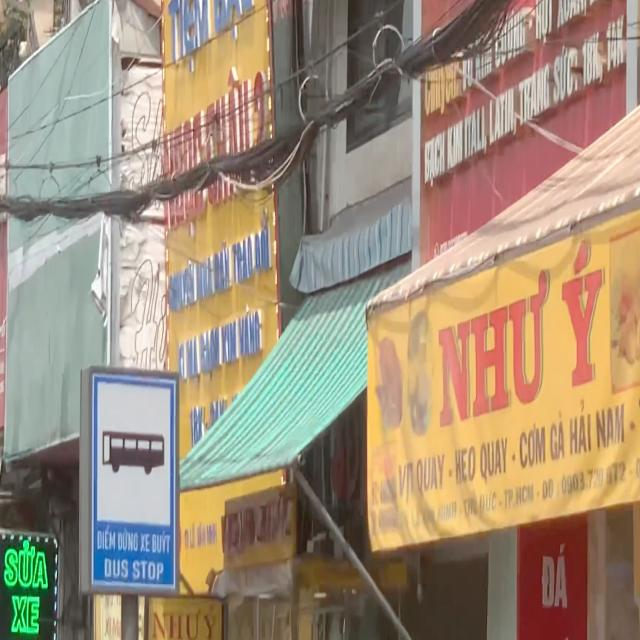Ben xe buyt: (90, 370, 178, 592)
